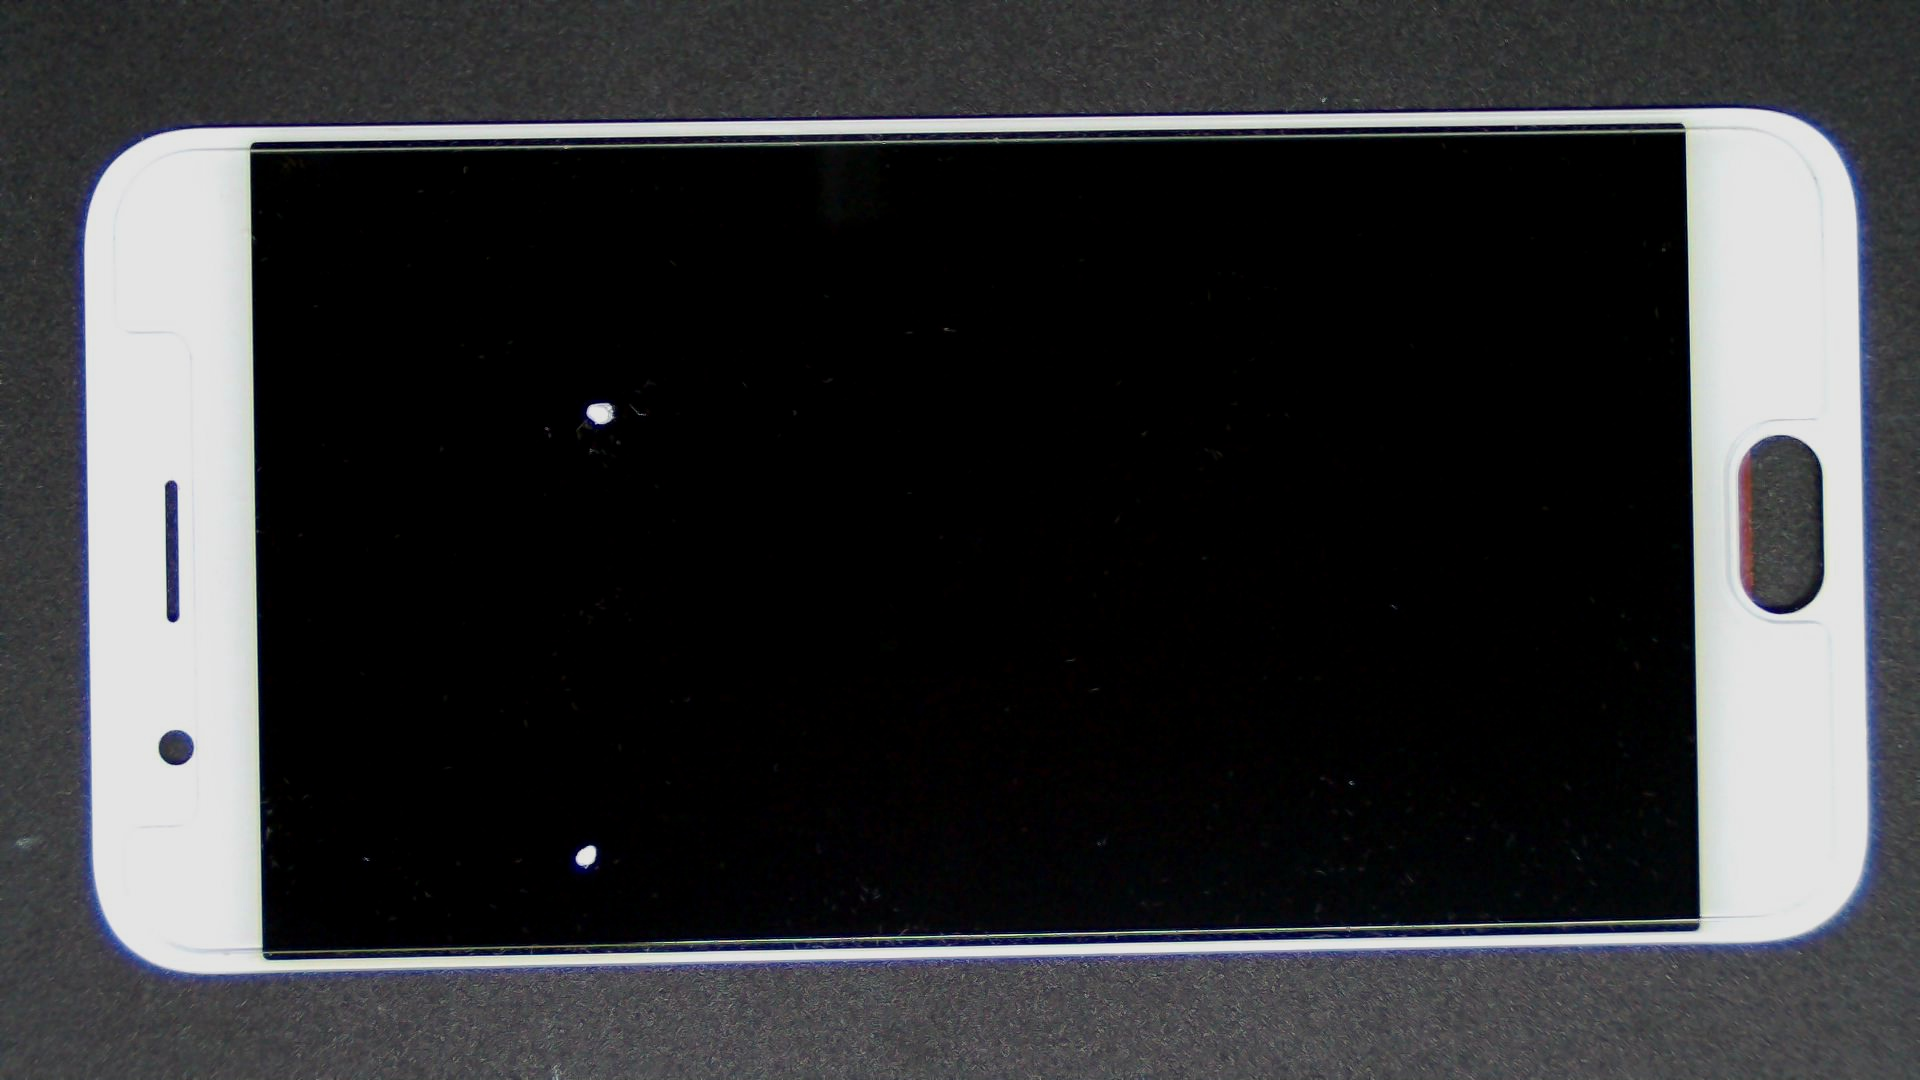oil: (297, 421, 887, 1080), (297, 200, 887, 603)
